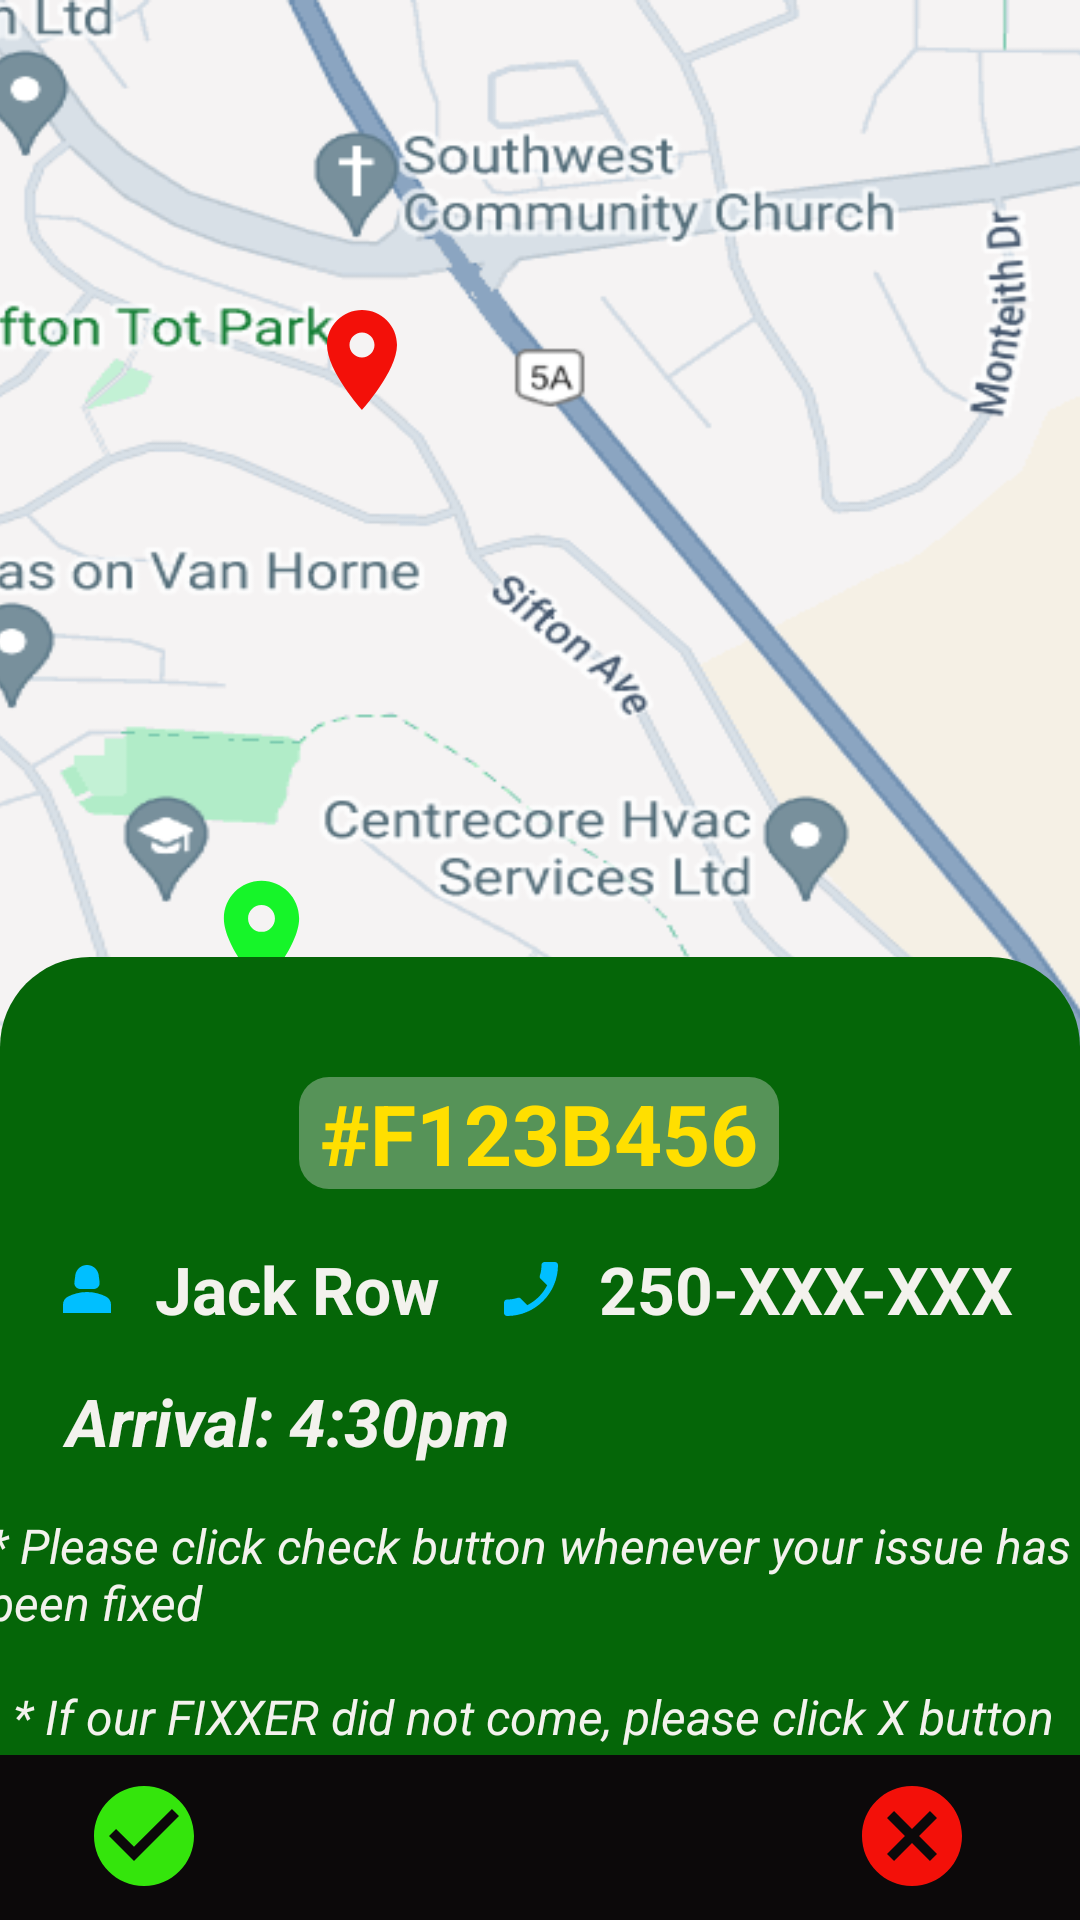

Where to tap for icons on this 1080x1920 app screen, as (x,y):
accept: (144,1836)
cancel: (912,1836)
customer location: (350,363)
fixxer location: (261,934)
